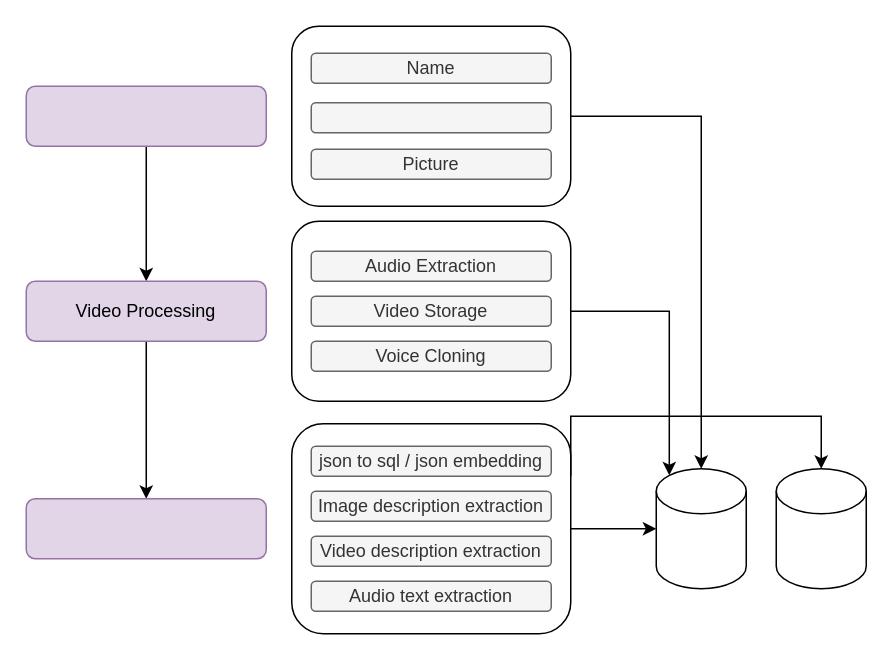
Image size: 893x660. Some labels were removed from this diagram. Here are the shapes that lost their labels. From the top down, the centre of each, then its label:
At [145,115]: "Basic Info".
At [430,117]: "Birthday".
At [145,528]: "Social Media Data Processing".
At [700,528]: "SQL DB".
At [820,528]: "Vector DB".
